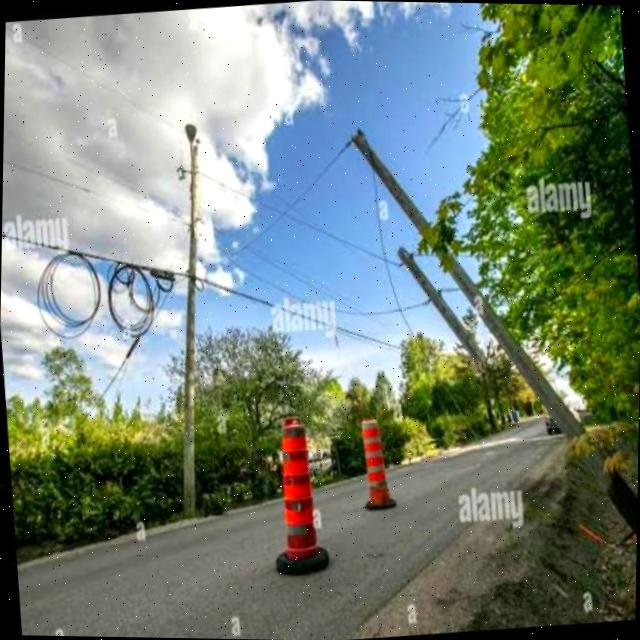Broken Pole: (346, 124, 637, 540), (394, 241, 493, 372)
